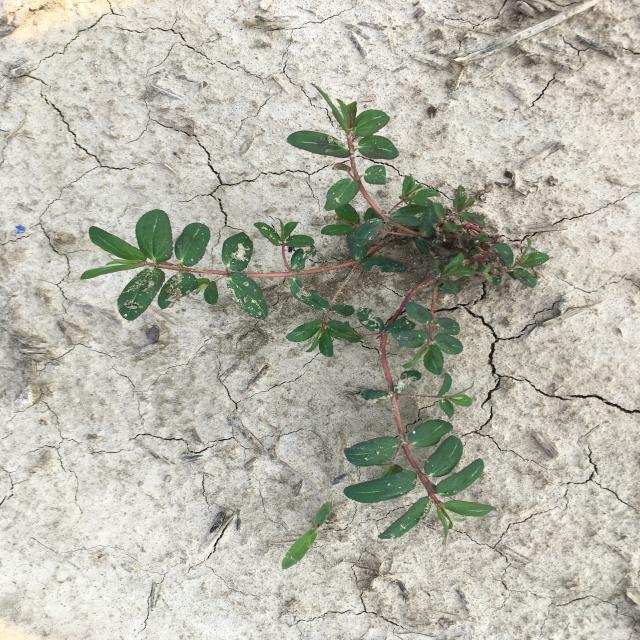SpottedSpurge: (79, 82, 551, 546)
